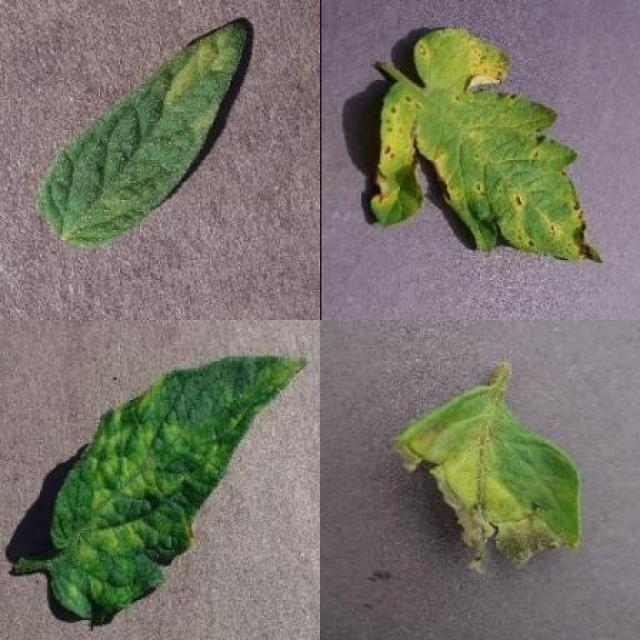Late Blight: (388, 385, 582, 575)
Leaf Mold: (47, 353, 309, 624), (38, 18, 251, 243)
Septoria: (367, 28, 600, 263)
